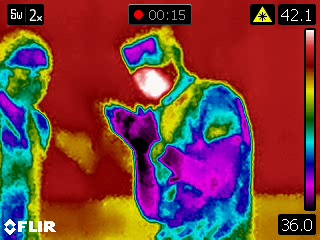human: (100, 24, 257, 240), (1, 29, 56, 240)
